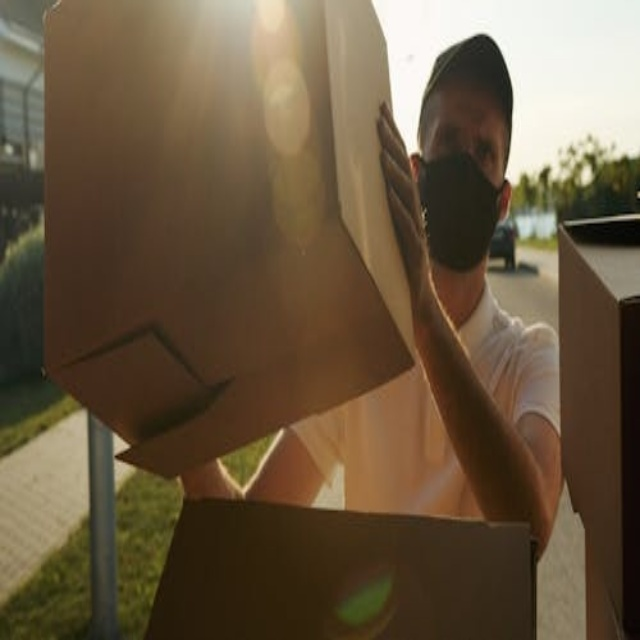Mascara: (418, 150, 505, 269)
Sin_guantes: (372, 96, 440, 327)
